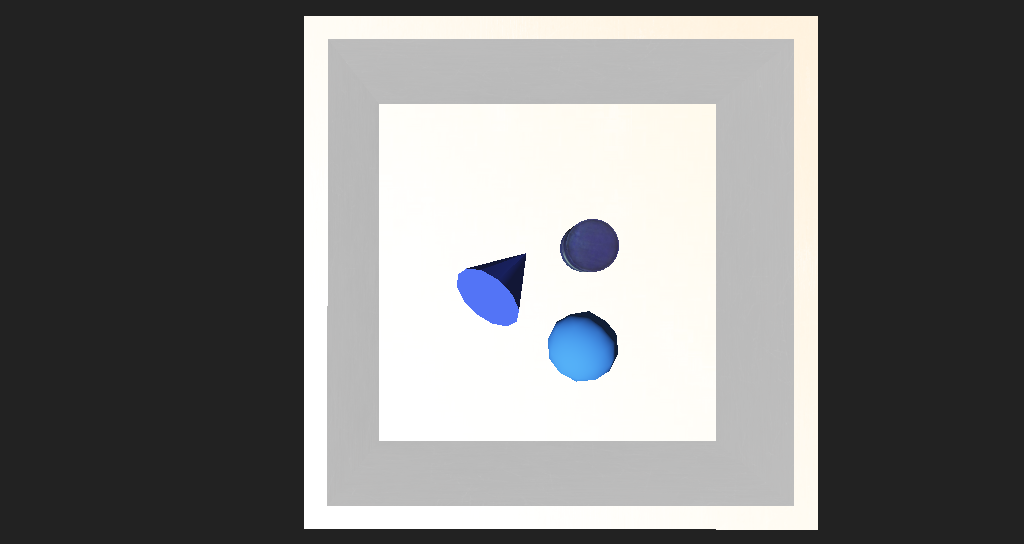cone: (522, 236, 569, 270)
cylinder: (411, 231, 519, 313)
sphere: (509, 291, 569, 339)
